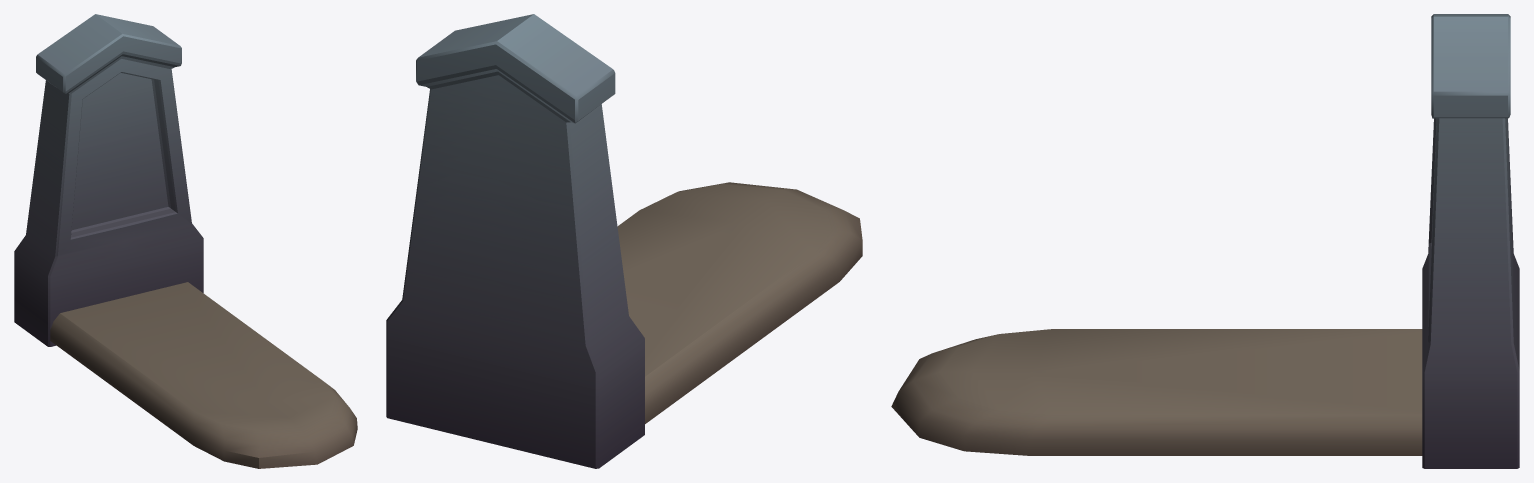
File: GStone6.fbx
3 renders of one model, left to right at view 1: azimuth 30°, elevation 25°; view 2: azimuth 150°, elevation 25°; view 3: azimuth 270°, elevation 25°, orthographic. The views are drawn at different scales.
Visible parts, largest first — view 1: GStone6; view 2: GStone6; view 3: GStone6.
Boxes of the visible parts, box(x1,y1,x2,y2) form: GStone6: box(14, 14, 357, 468); GStone6: box(386, 14, 862, 468); GStone6: box(891, 14, 1519, 468).
Bounding box in the file's own units: 200 × 358 × 509.
Materials: 1 (1 with a texture image).
